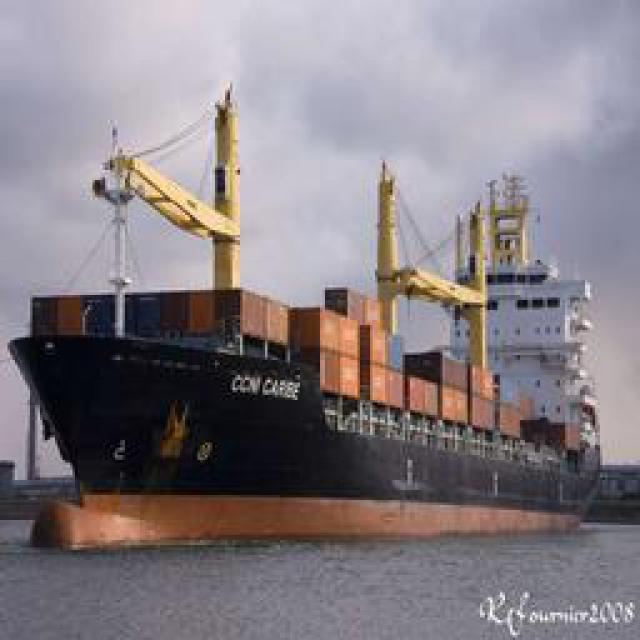Ship: (19, 102, 604, 522)
